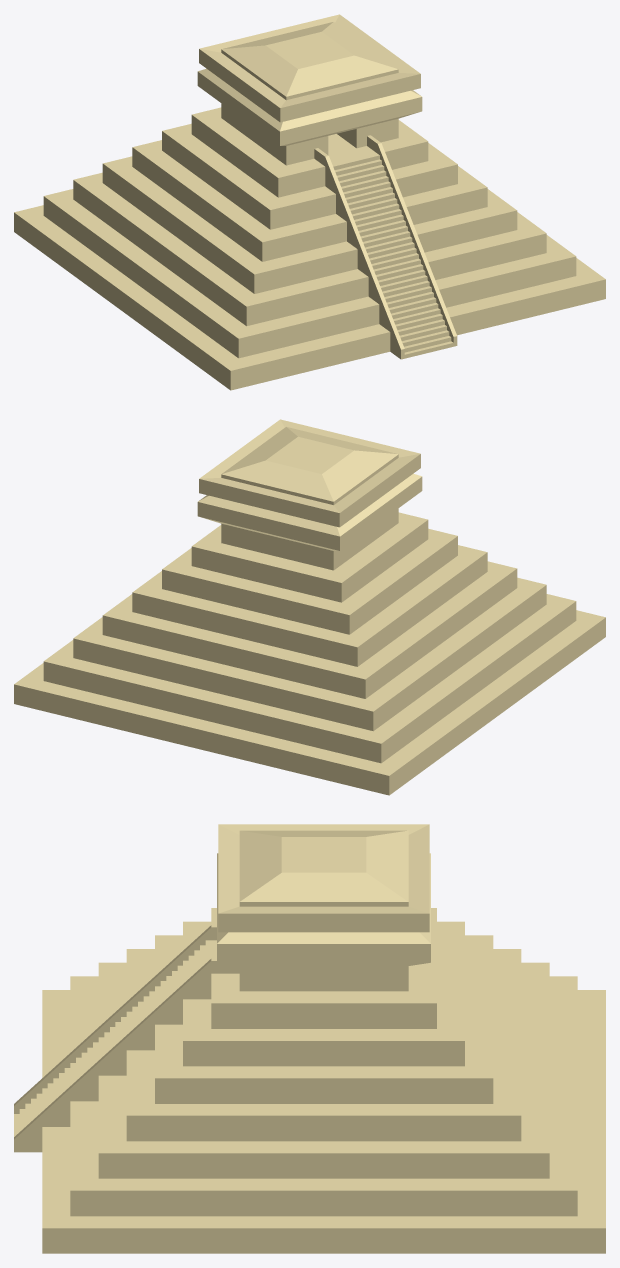
The picture shows the model from 3 angles, top to bottom: view 1: azimuth 30°, elevation 25°; view 2: azimuth 150°, elevation 25°; view 3: azimuth 270°, elevation 25°; orthographic projection. The views are drawn at different scales.
Parts seen in each view (by area): view 1: Pyramid; view 2: Pyramid; view 3: Pyramid.
Part boxes in pixels (left/top/right/bottom): Pyramid: left=14, top=14, right=605, bottom=390; Pyramid: left=14, top=419, right=605, bottom=795; Pyramid: left=14, top=824, right=605, bottom=1253.
Size of the model in its own units: 20 by 21 by 10.95.
